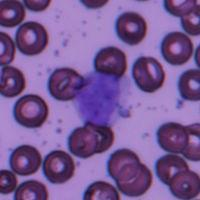M: (73, 71, 125, 126)
